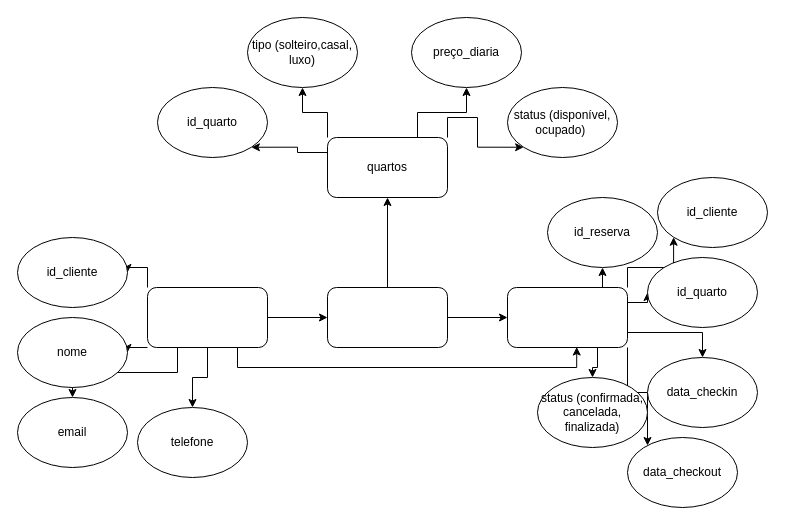
This 785x525 diagram has some shape labels left out. Here are the shapes that lost their labels. From the top down, the centre of each, then its label:
At [207,317]: "clientes".
At [387,317]: "hotel".
At [567,317]: "reservas".
